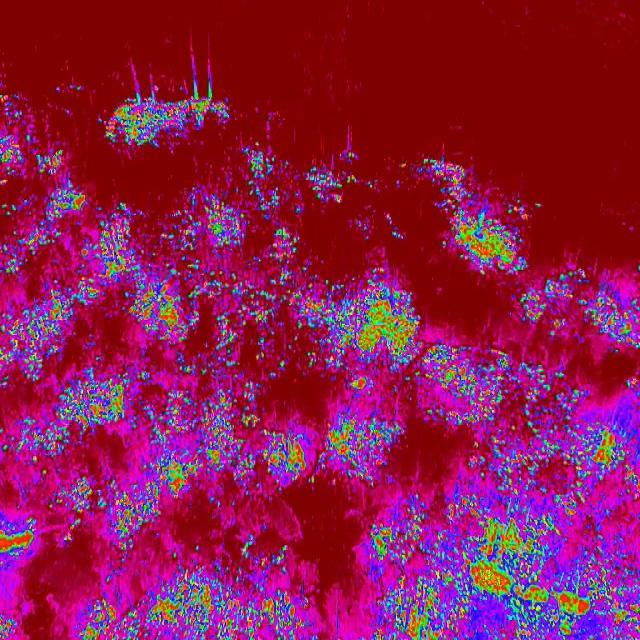fire: (0, 342, 640, 640), (130, 210, 325, 342), (0, 90, 70, 342), (422, 155, 530, 277), (187, 142, 360, 210), (70, 184, 130, 341), (513, 272, 640, 342), (104, 88, 234, 153), (325, 275, 423, 343)
